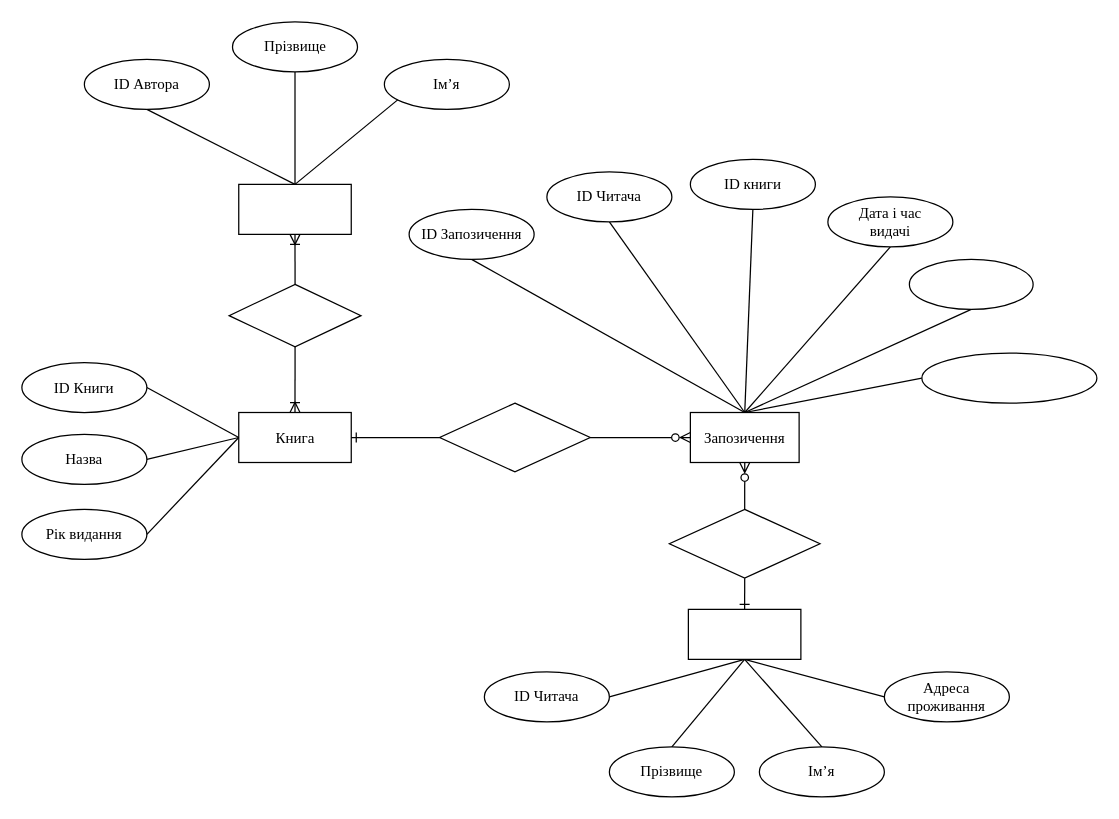
Some shapes in this 1119 by 819 pixel diagram are drawn without their labels. The shapes that lost their labels are listed below. From the top down, each one's centre as x and y in pixels, then its label:
the point at 294,208: Автор
the point at 970,283: Дата і час повернення
the point at 294,315: Написав
the point at 1009,377: Фактична дата і час повернення
the point at 514,437: запозичили/ повернули
the point at 744,543: запозичив/ повернув
the point at 744,633: Читач
